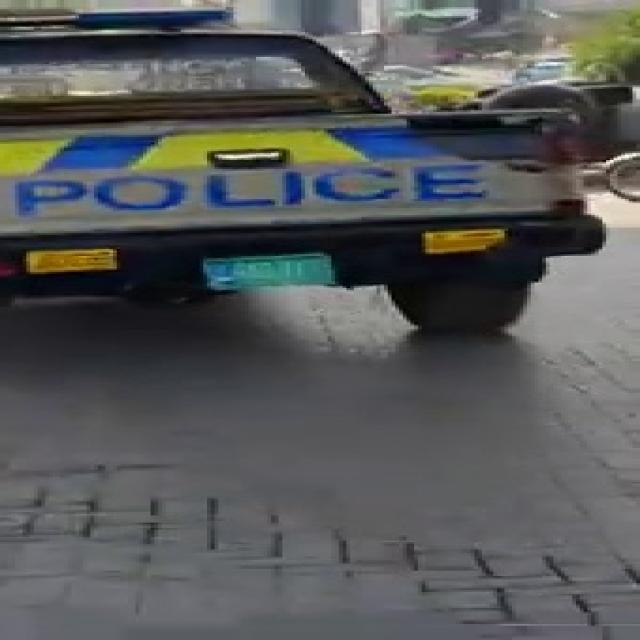police: (0, 12, 578, 350)
